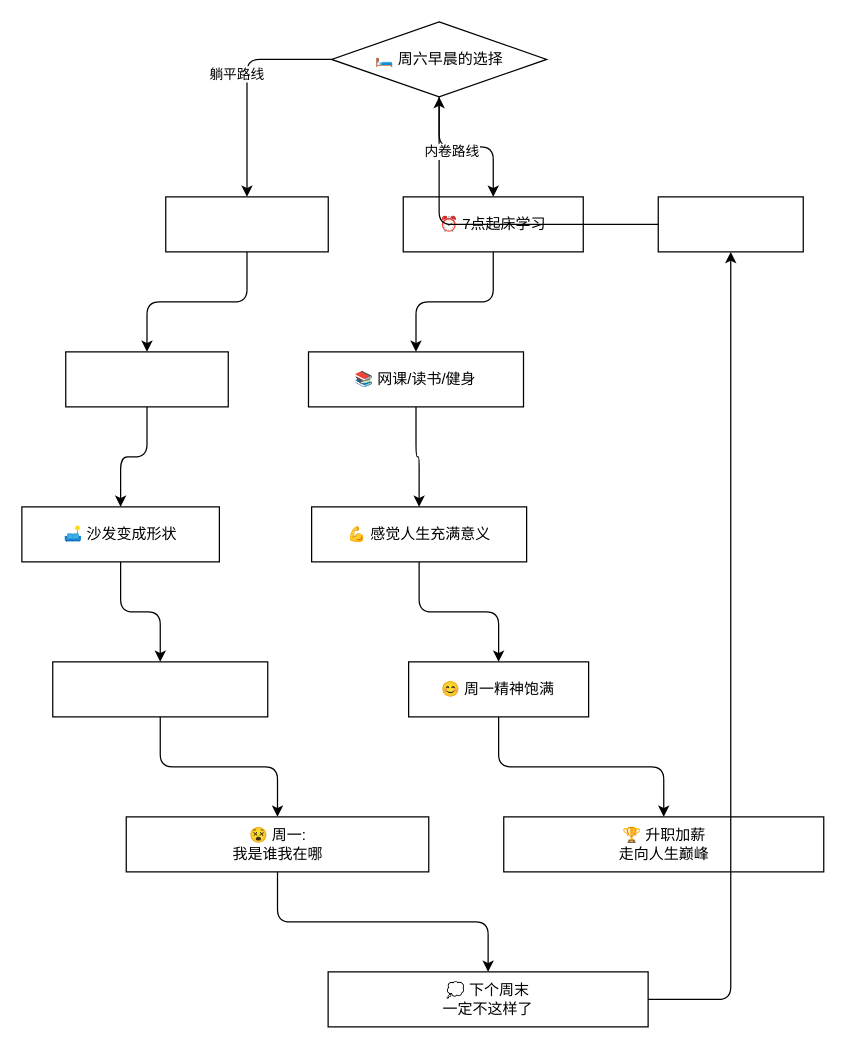
Some shapes in this 846 by 1049 pixel diagram are drawn without their labels. Here are the shapes that lost their labels. From the top down, the centre of each, then its label:
At point 246,224: "😴 睡到自然醒".
At point 730,224: "🎉 周末到!".
At point 146,379: "🍜 外卖+追剧".
At point 160,689: "📱 刷手机到凌晨3点".
